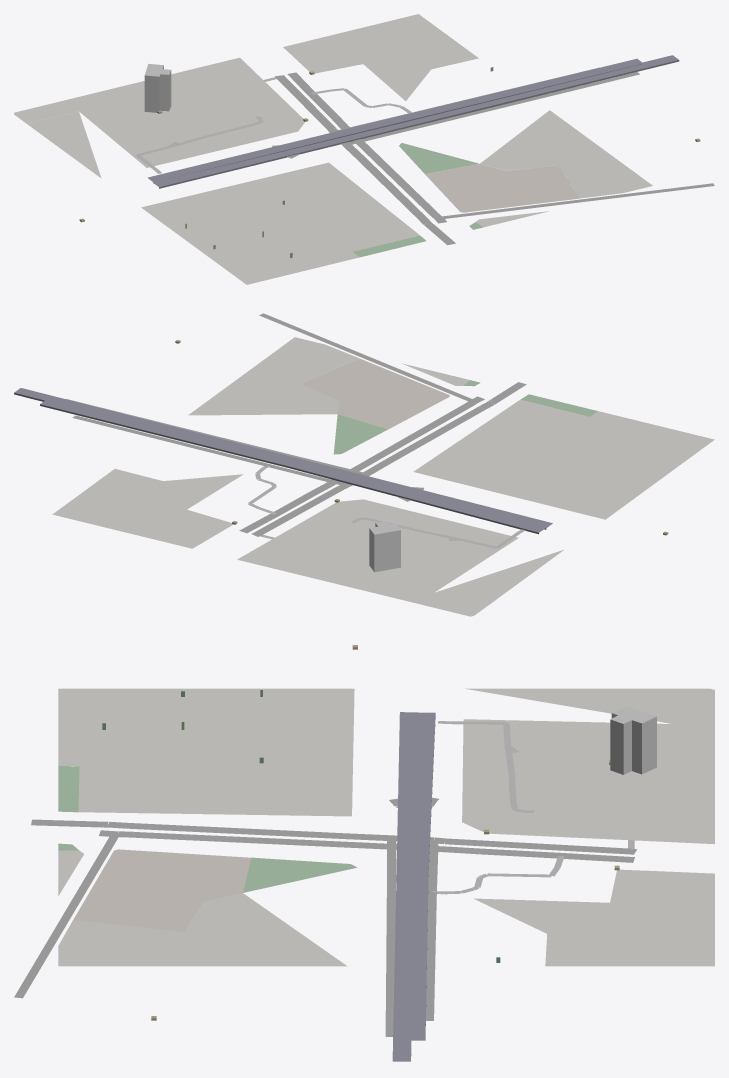
3 views of the same model, one above another, from view 1: azimuth 30°, elevation 25°; view 2: azimuth 150°, elevation 25°; view 3: azimuth 270°, elevation 25° (orthographic). The views are drawn at different scales.
Bounding box in the file's own units: 753 × 44.75 × 534.
